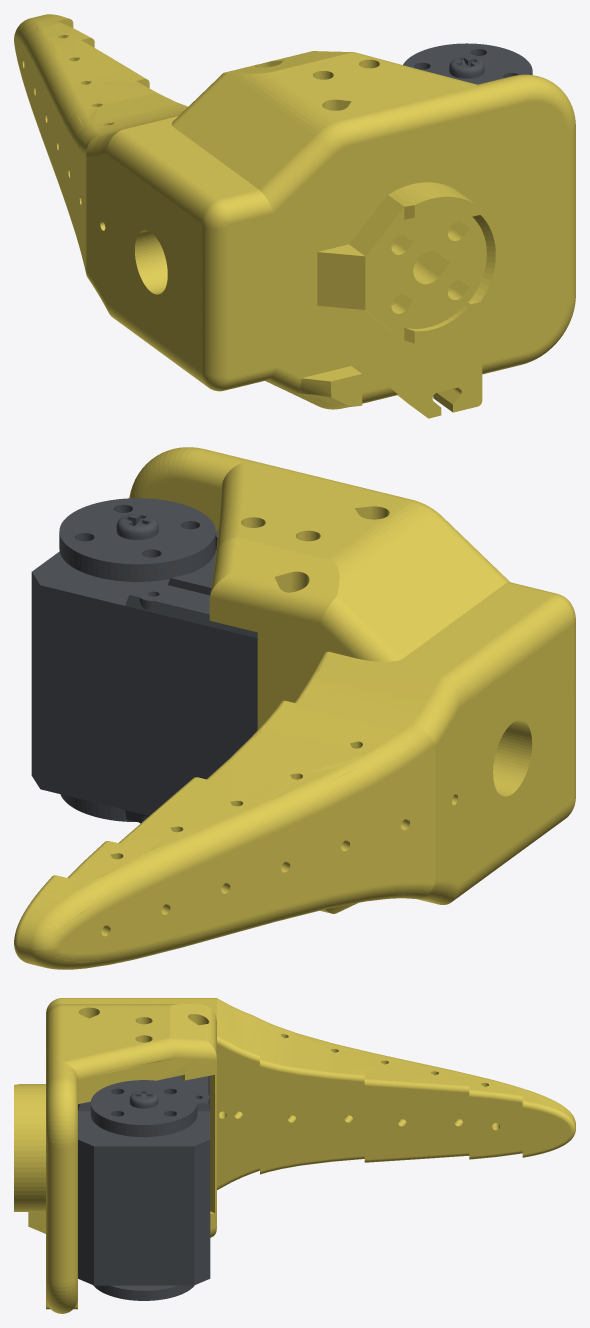
File: gripper_link.glb
The picture shows the model from 3 angles, top to bottom: view 1: azimuth 30°, elevation 25°; view 2: azimuth 150°, elevation 25°; view 3: azimuth 270°, elevation 25°; orthographic projection. The views are drawn at different scales.
Visible parts, largest first — view 1: gripper_link_1, gripper_link_0; view 2: gripper_link_1, gripper_link_0; view 3: gripper_link_1, gripper_link_0.
Part boxes in pixels (<box>): gripper_link_1: <box>14,14,575,418</box>; gripper_link_0: <box>403,43,532,84</box>; gripper_link_1: <box>14,447,575,969</box>; gripper_link_0: <box>31,498,257,823</box>; gripper_link_1: <box>14,998,575,1313</box>; gripper_link_0: <box>78,1075,210,1300</box>.
Size of the model in its own units: 0.0656 by 0.052 by 0.1054.
